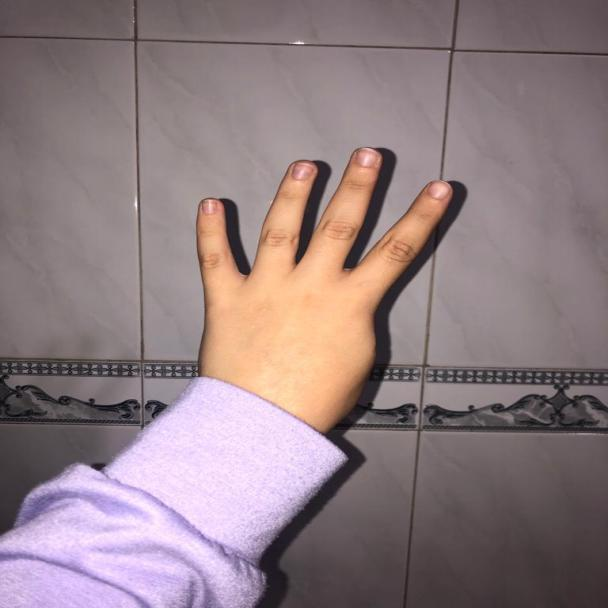four: (178, 142, 474, 445)
